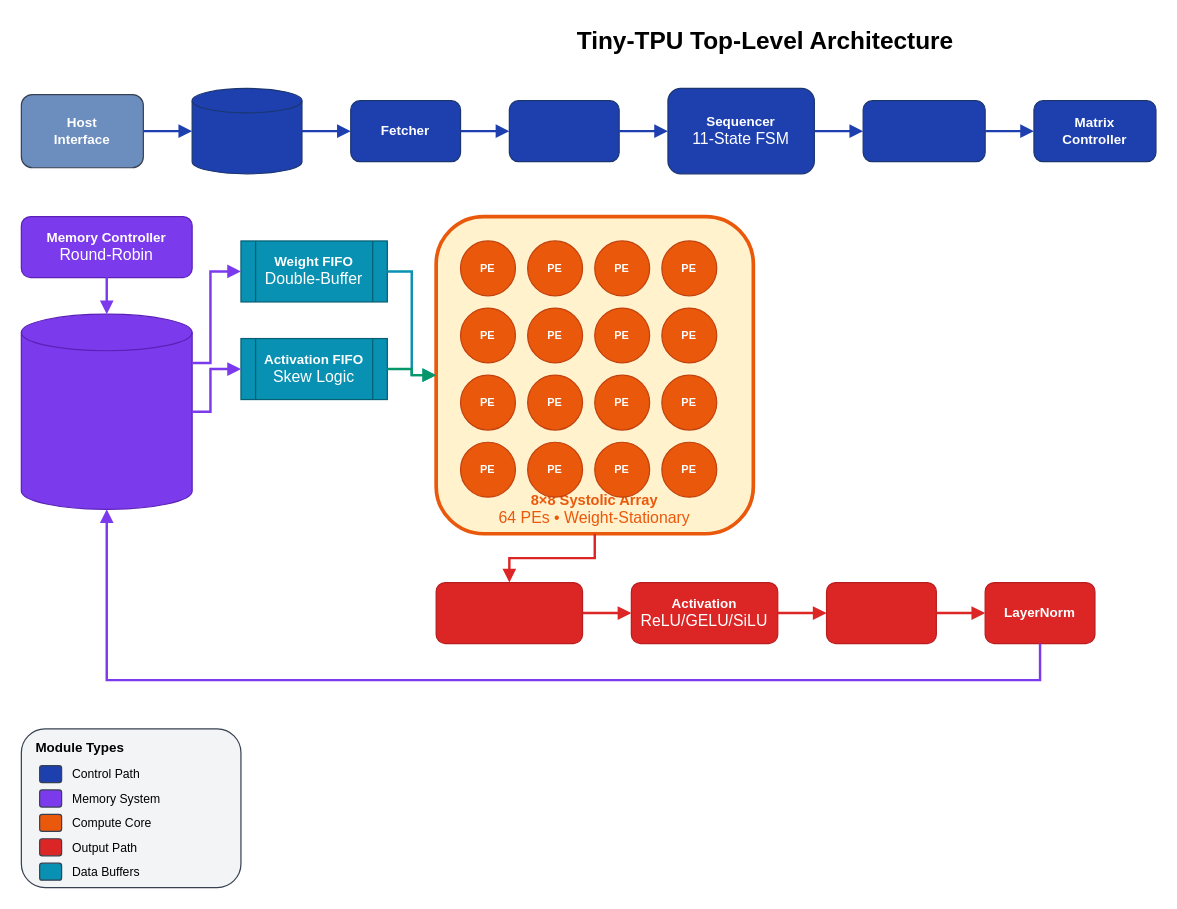
This 1177x909 diagram has some shape labels left out. The centre of each missing label's shape, as x and y in pixels:
"Accumulator INT32→INT8" belongs at point 509,612.
"Decoder" belongs at point 563,130.
"Program Memory" belongs at point 246,130.
"Softmax" belongs at point 880,612.
"Tiling Controller" belongs at point 923,130.
"Unified Buffer 64 KB Dual-Port SRAM" belongs at point 106,411.
